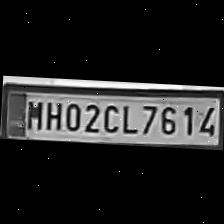0: (60, 97, 82, 130)
1: (176, 102, 195, 136)
2: (79, 99, 101, 133)
4: (194, 102, 216, 136)
6: (154, 101, 178, 135)
7: (136, 100, 156, 134)
C: (98, 100, 119, 132)
H: (40, 97, 62, 131)
L: (118, 100, 138, 134)
M: (22, 96, 44, 130)
